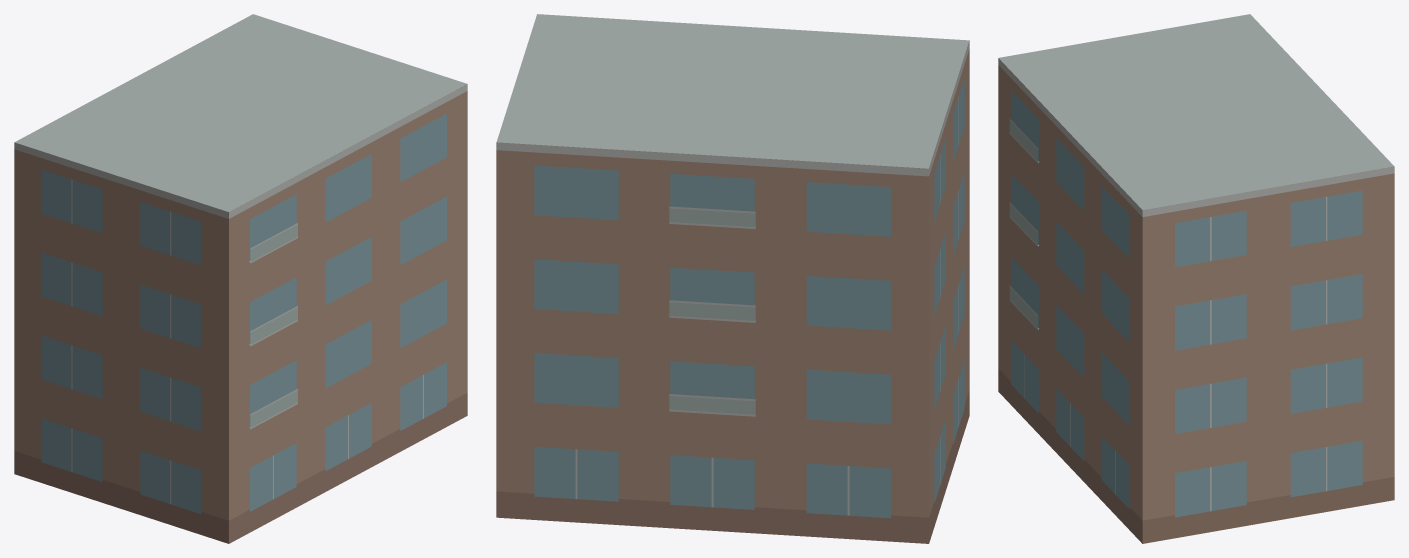
The model's file is survey-upis-32853830.glb.
3 views of the same model, side by side, from view 1: azimuth 30°, elevation 25°; view 2: azimuth 150°, elevation 25°; view 3: azimuth 270°, elevation 25° (orthographic). The views are drawn at different scales.
Parts seen in each view (by area): view 1: survey-upis-32853830.tmp; view 2: survey-upis-32853830.tmp; view 3: survey-upis-32853830.tmp.
Boxes of the visible parts, bbox=[...] form: survey-upis-32853830.tmp: bbox=[14, 14, 467, 543]; survey-upis-32853830.tmp: bbox=[496, 14, 969, 543]; survey-upis-32853830.tmp: bbox=[998, 14, 1394, 543].
Bounding box in the file's own units: 14.9 × 11.8 × 12.71.
